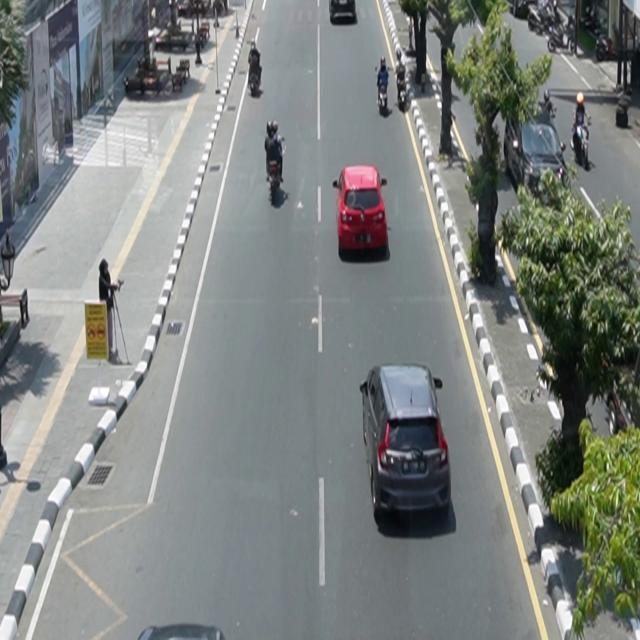car: (360, 363, 452, 523), (505, 112, 570, 199), (333, 165, 389, 257), (330, 1, 357, 25)
